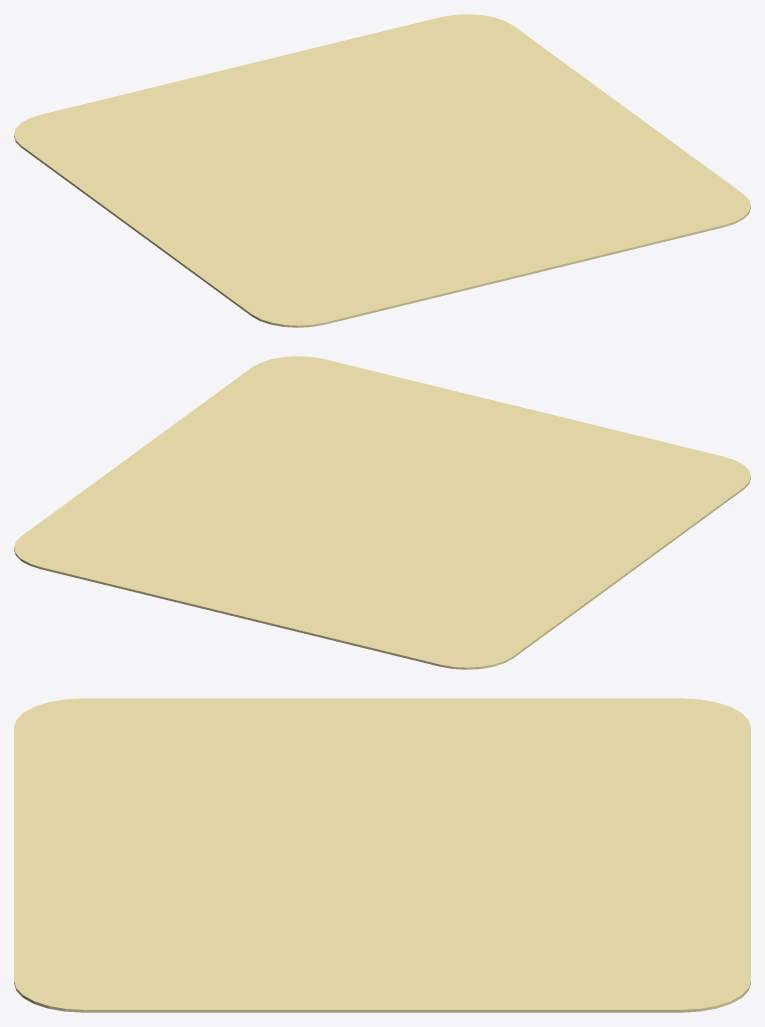
The picture shows the model from 3 angles, top to bottom: view 1: azimuth 30°, elevation 25°; view 2: azimuth 150°, elevation 25°; view 3: azimuth 270°, elevation 25°; orthographic projection. The views are drawn at different scales.
Visible parts, largest first — view 1: COM-02 Floor Surface; view 2: COM-02 Floor Surface; view 3: COM-02 Floor Surface.
Part boxes in pixels (<box>): COM-02 Floor Surface: <box>14,14,750,327</box>; COM-02 Floor Surface: <box>14,356,750,669</box>; COM-02 Floor Surface: <box>14,698,750,1012</box>.
Size of the model in its own units: 1.92 by 0.008 by 1.92.
1 material, 1 textured.
